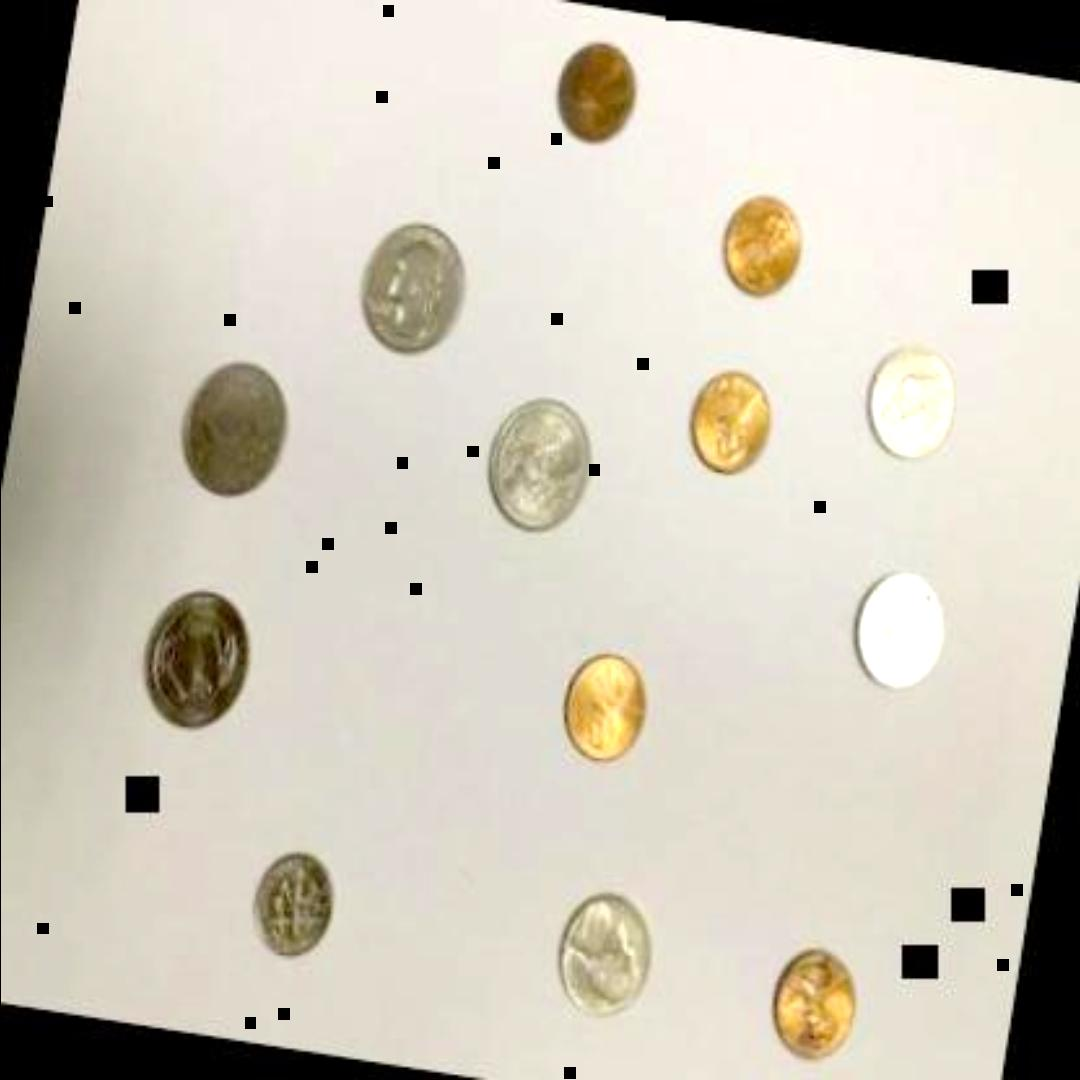Dime: (248, 852, 342, 961)
Nickel: (858, 334, 967, 466), (550, 890, 658, 1020), (851, 570, 951, 692)
Penny: (554, 648, 653, 770), (766, 948, 860, 1064), (717, 188, 815, 298), (548, 40, 646, 148), (683, 372, 779, 476)
Quarter: (479, 395, 598, 535), (175, 360, 293, 500), (142, 589, 254, 735), (356, 224, 470, 356)
